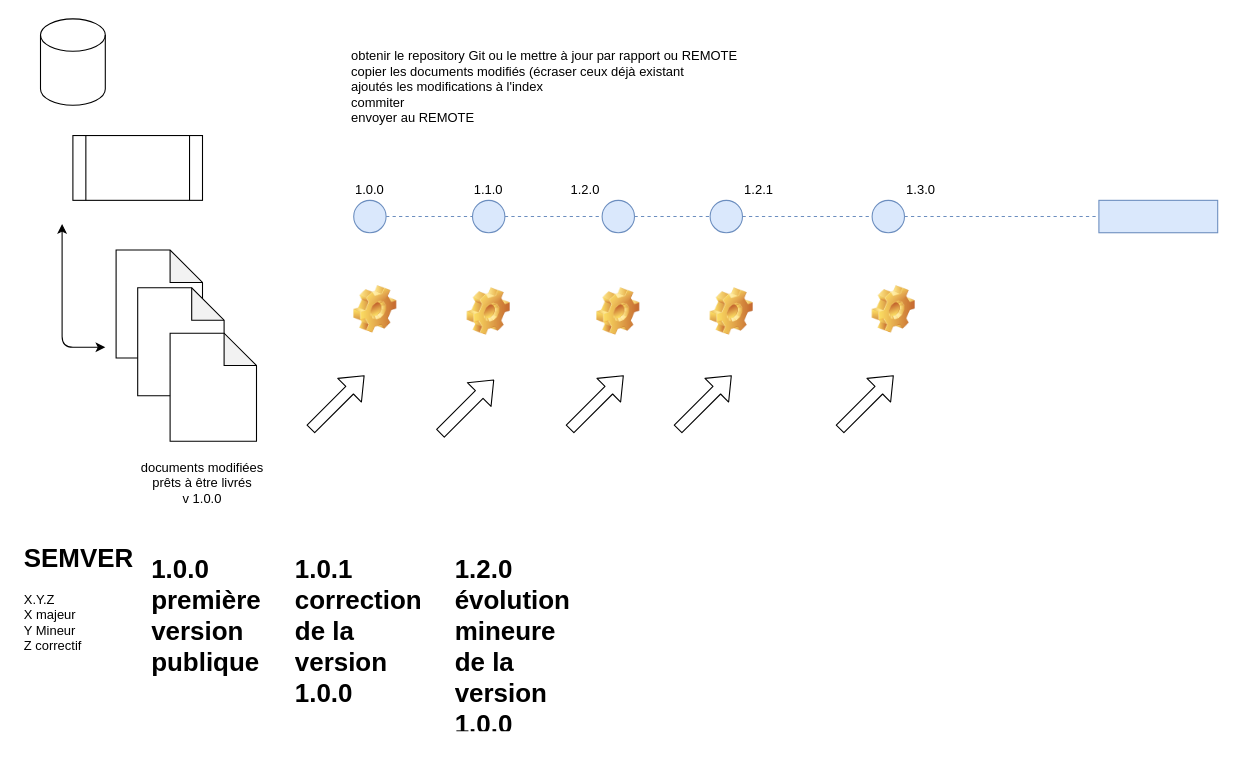
The diagram is 1237 pixels wide and 757 high, and some of its shapes have lost their labels. The box of each missing label's shape, as (x1, y1, x2, y2) in pixels:
addin GCEDOC: (72, 134, 202, 200)
develop: (1098, 199, 1218, 233)
Référentiel GceDoc: (39, 18, 105, 105)
